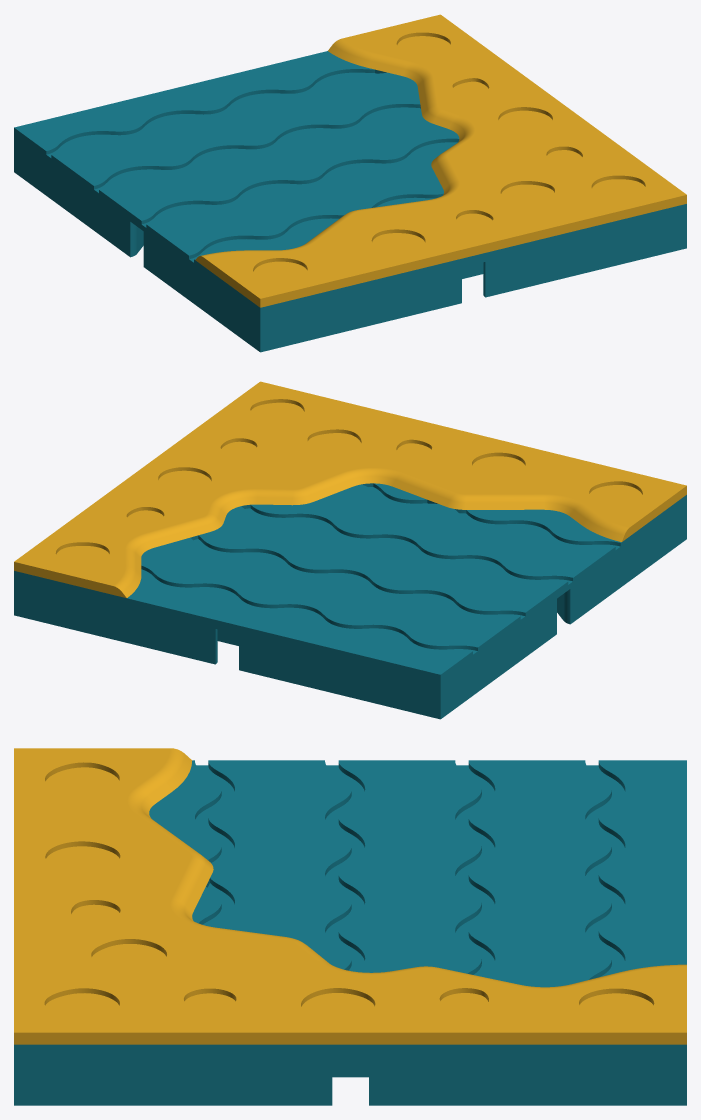
The model's file is 5x5 Sand On Water Inner Corner.obj.
The picture shows the model from 3 angles, top to bottom: view 1: azimuth 30°, elevation 25°; view 2: azimuth 150°, elevation 25°; view 3: azimuth 270°, elevation 25°; orthographic projection. The views are drawn at different scales.
Visible parts, largest first — view 1: Körper1:1, Körper1; view 2: Körper1:1, Körper1; view 3: Körper1:1, Körper1.
Boxes of the visible parts, x1,y1,x2,y2 form: Körper1:1: (14, 51, 686, 352); Körper1: (195, 14, 686, 307); Körper1:1: (14, 483, 686, 719); Körper1: (14, 381, 686, 598); Körper1:1: (14, 760, 686, 1105); Körper1: (14, 748, 686, 1044).
Bounding box in the file's own units: 50 × 6 × 50.
